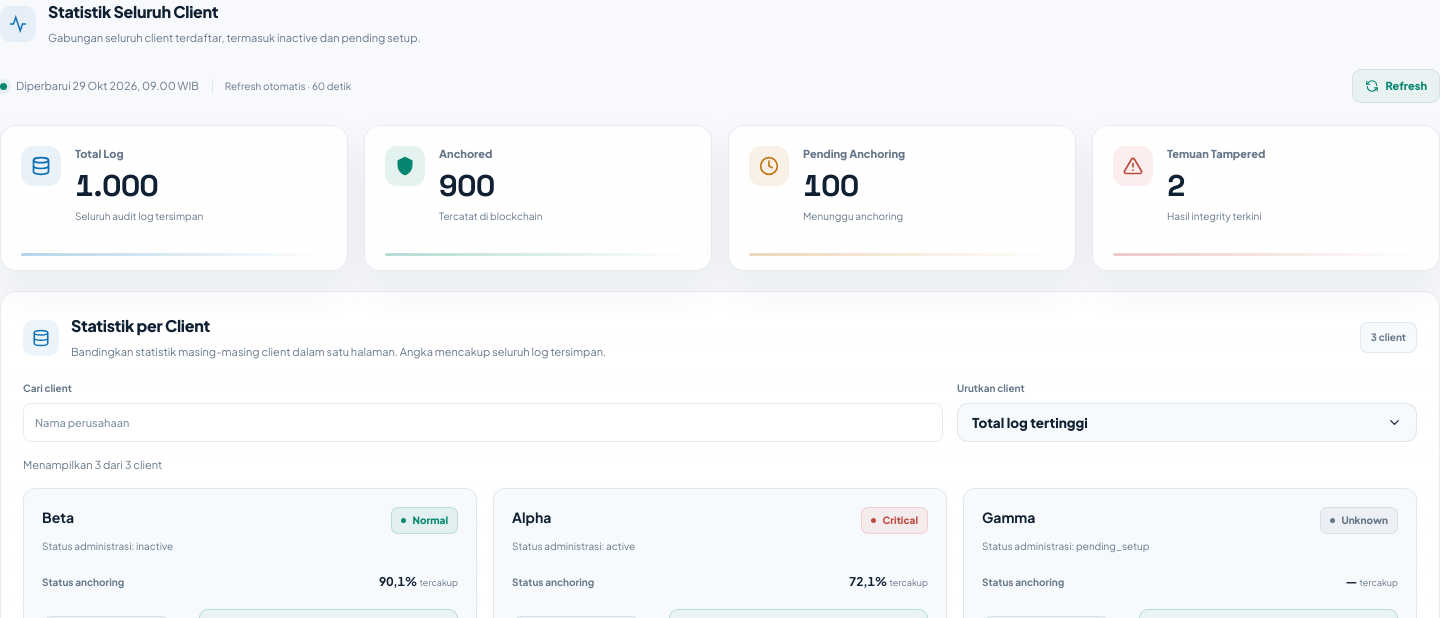
Test case: changes trend range while keeping all-time totals and ignores old responses
The width and height of the screenshot is (1440, 618).
Click the button "Refresh": (1396, 86) [1352, 69, 1439, 103]
(page scrolled)
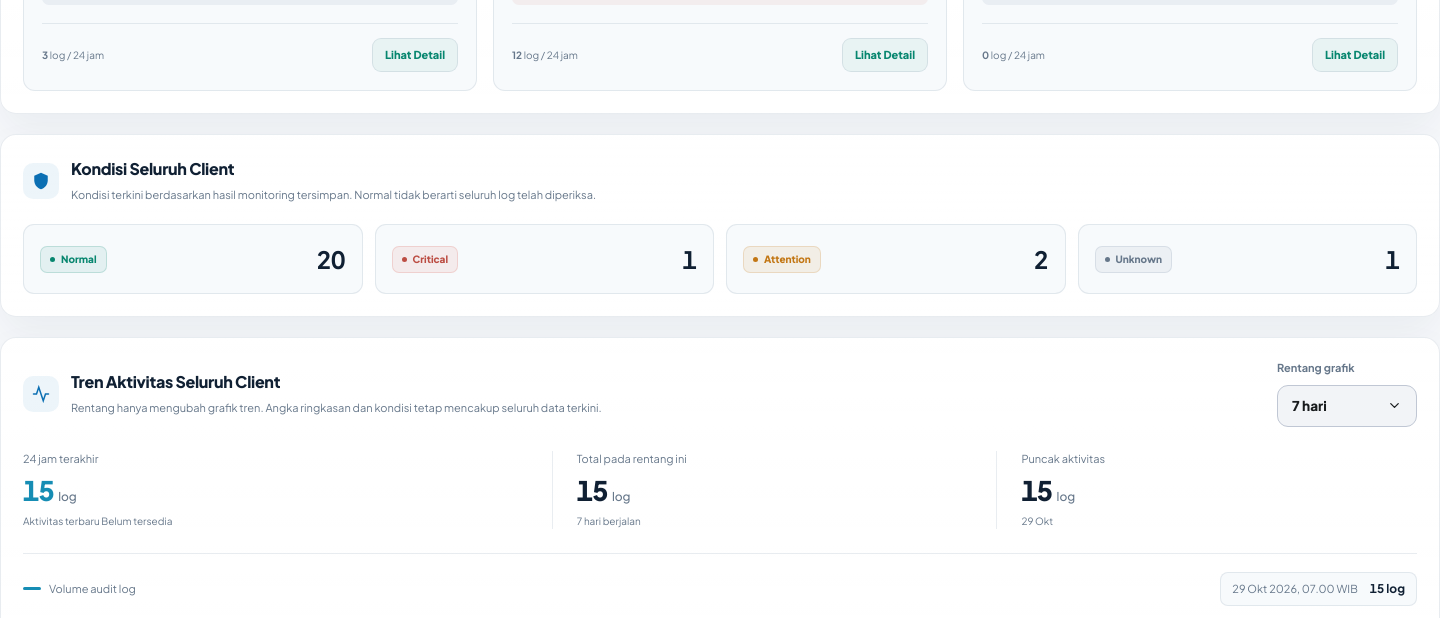
Click the button with aria-label "Rentang grafik": (1347, 406) [1277, 385, 1417, 427]
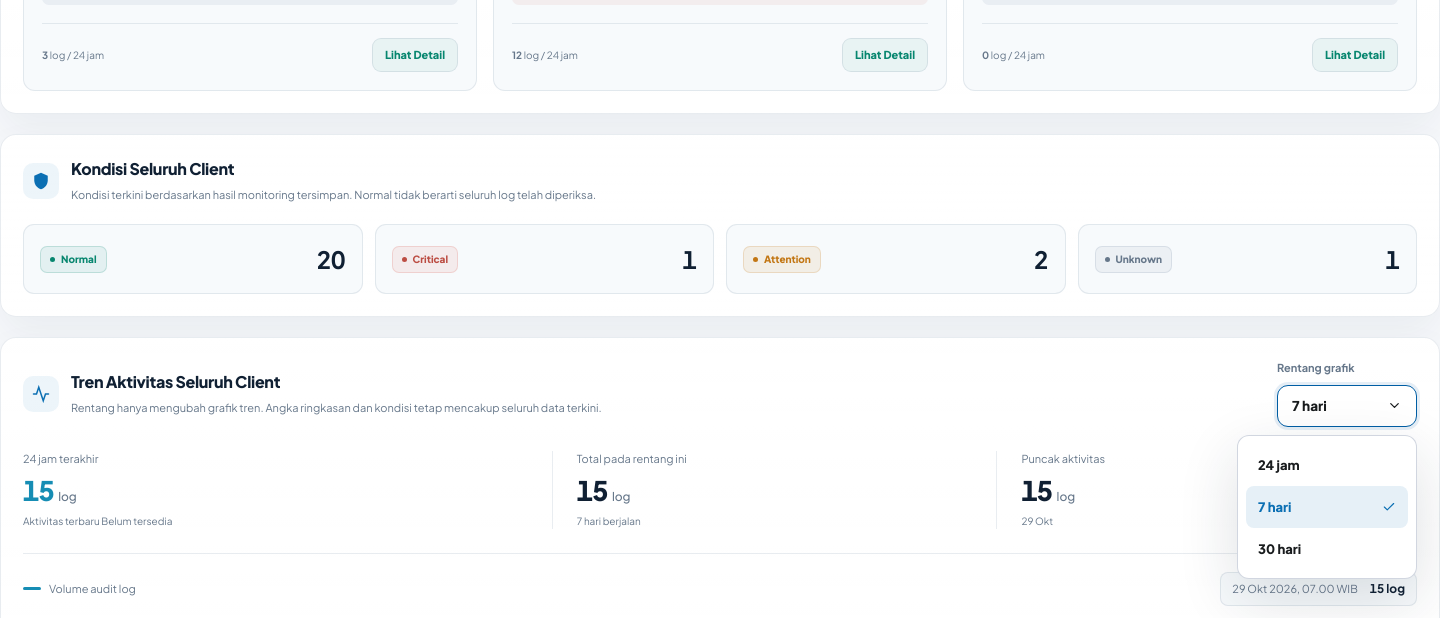
Click the option "24 jam": (1327, 465) [1246, 444, 1408, 486]
(page scrolled)
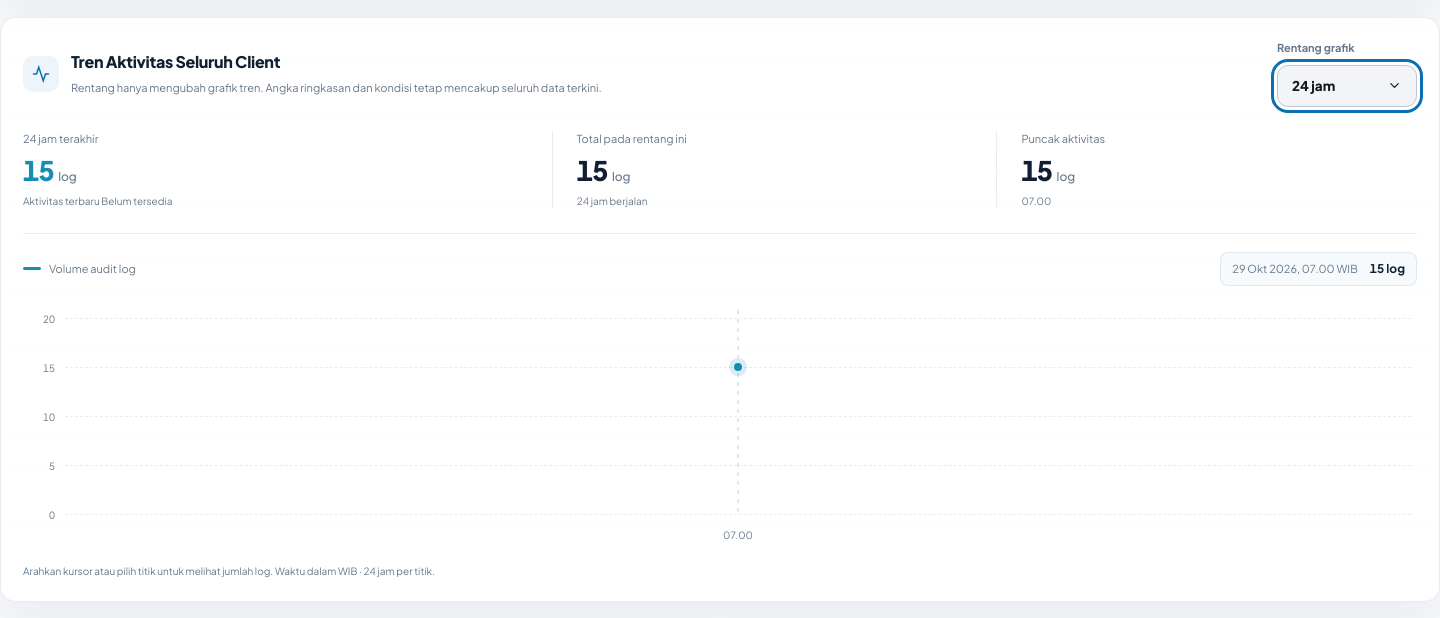
Result: the element named "Tren aktivitas 24H" is shown at [23, 233, 1417, 579]
